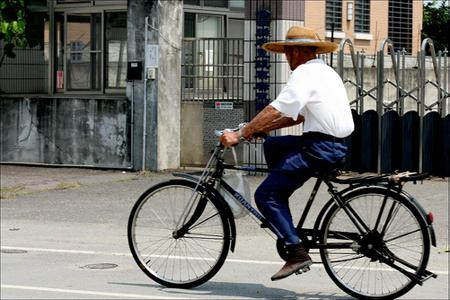person: (220, 25, 357, 281)
